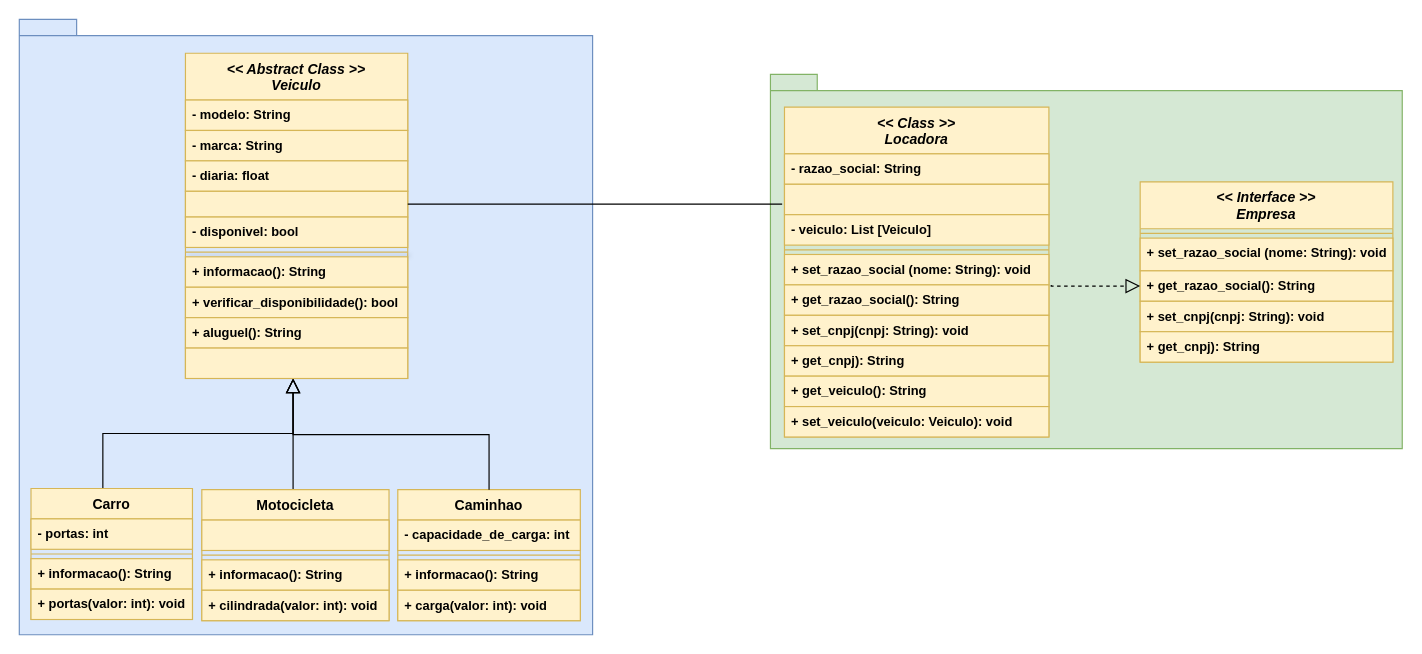
This 1422x654 diagram has some shape labels left out. Each missing label, with the centre of its shape:
"+ devolucao(): String" belongs at point 296,362.
"- ano: int" belongs at point 296,203.
"- cilindrada: int" belongs at point 295,534.
"- cnpj: String" belongs at point 916,199.
